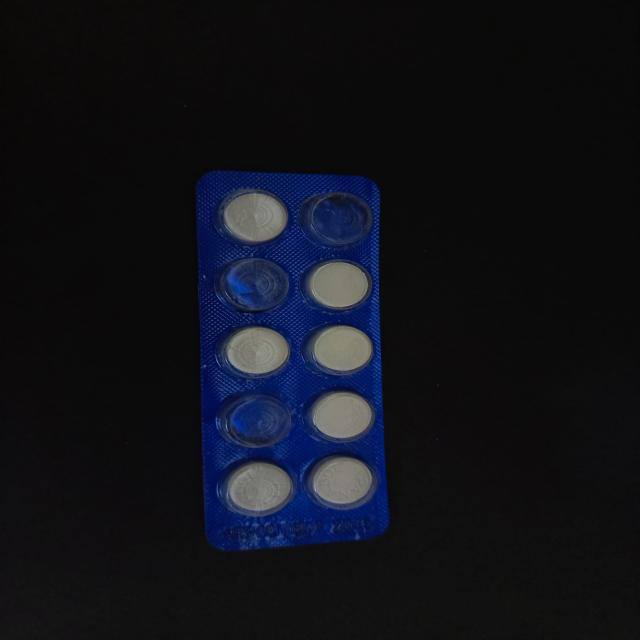defect: (212, 388, 295, 452), (212, 255, 295, 318), (297, 190, 378, 252)
